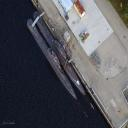submarine: (35, 13, 88, 98), (28, 20, 83, 99)
